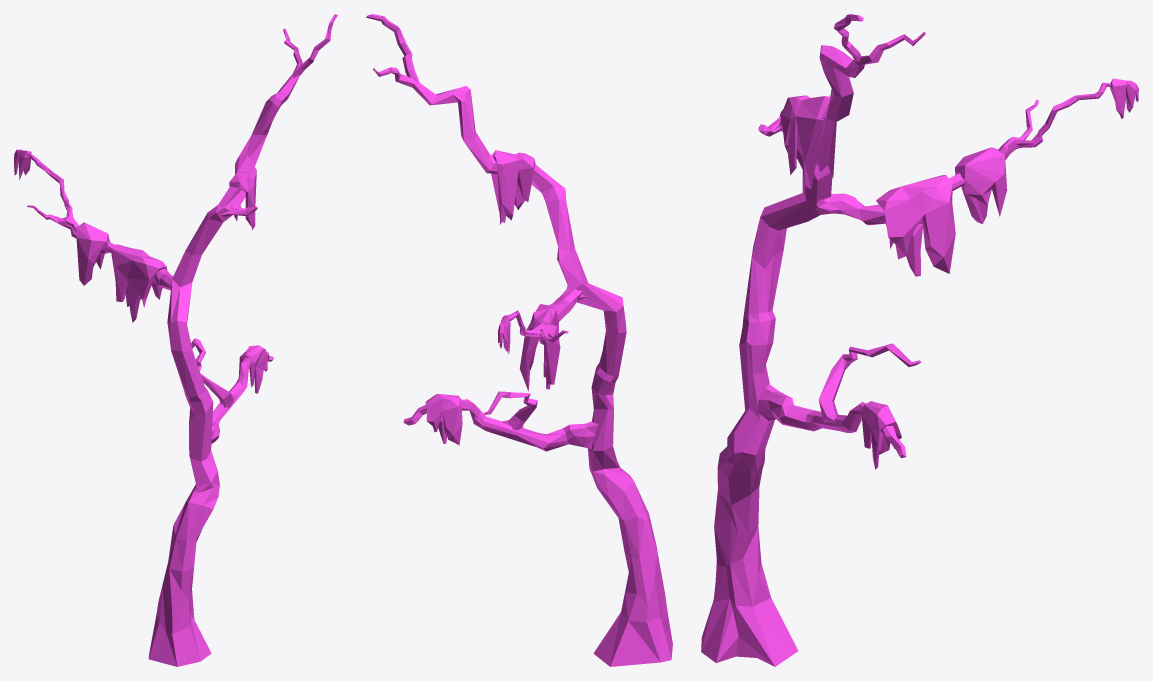
The model's file is SM_Tree_Swamp_A_Fantasy.fbx.
The picture shows the model from 3 angles, left to right: view 1: azimuth 30°, elevation 25°; view 2: azimuth 150°, elevation 25°; view 3: azimuth 270°, elevation 25°; orthographic projection. The views are drawn at different scales.
Parts seen in each view (by area): view 1: SM_Tree_Swamp_A_Fantasy; view 2: SM_Tree_Swamp_A_Fantasy; view 3: SM_Tree_Swamp_A_Fantasy.
Boxes of the visible parts, x1=… form: SM_Tree_Swamp_A_Fantasy: x1=14, y1=14, x2=337, y2=666; SM_Tree_Swamp_A_Fantasy: x1=366, y1=14, x2=672, y2=666; SM_Tree_Swamp_A_Fantasy: x1=701, y1=14, x2=1138, y2=666.
Size of the model in its own units: 4.63 by 10 by 5.19.
